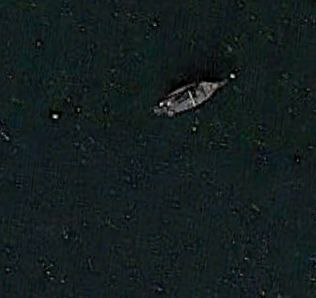boat: (151, 80, 229, 118)
